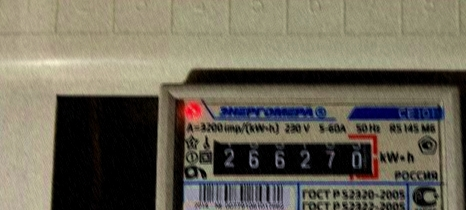0: (346, 148, 360, 168)
2: (219, 146, 232, 167), (296, 148, 309, 168)
6: (244, 147, 256, 168), (270, 148, 283, 167)
7: (322, 148, 332, 167)
screen: (198, 129, 381, 184)
